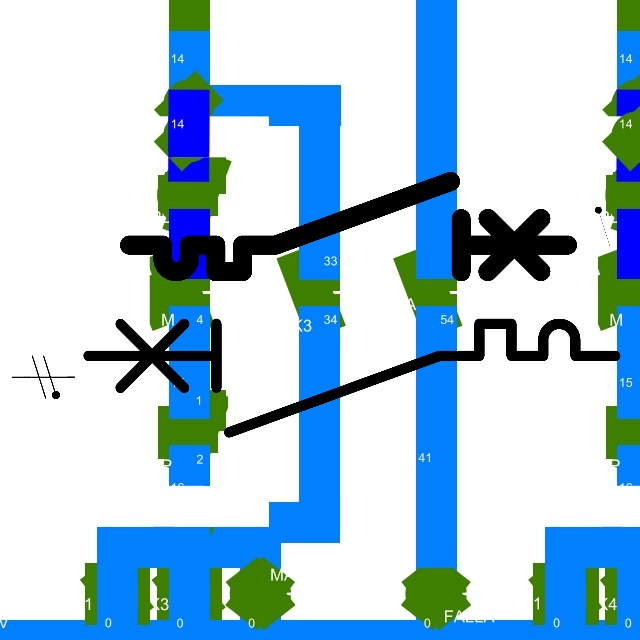interruptor_termomagnetico: (74, 310, 628, 445), (118, 170, 579, 283)
